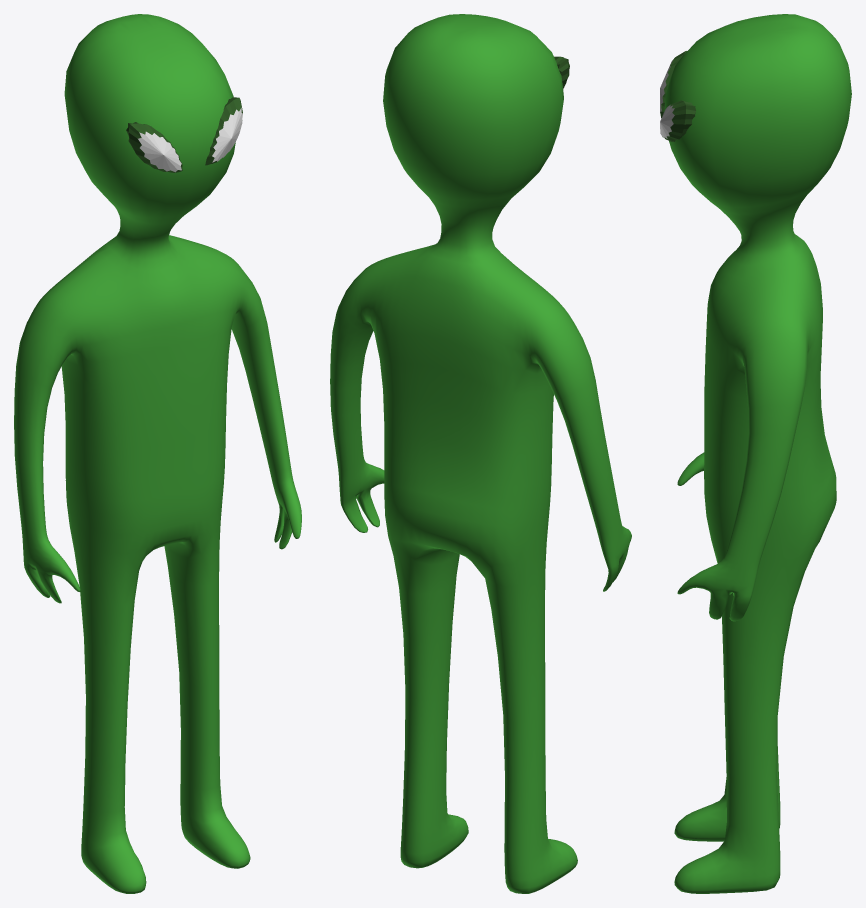
The model's file is Alien.glb.
3 renders of one model, left to right at view 1: azimuth 30°, elevation 25°; view 2: azimuth 150°, elevation 25°; view 3: azimuth 270°, elevation 25°, orthographic. The views are drawn at different scales.
Visible parts, largest first — view 1: Cuerpo Alien; view 2: Cuerpo Alien; view 3: Cuerpo Alien.
Part boxes in pixels (x1,y1,x2,y2): Cuerpo Alien: (14,14,301,893); Cuerpo Alien: (330,14,631,893); Cuerpo Alien: (660,14,851,893).
Bounding box in the file's own units: 0.4569 × 1.36 × 0.2828.
